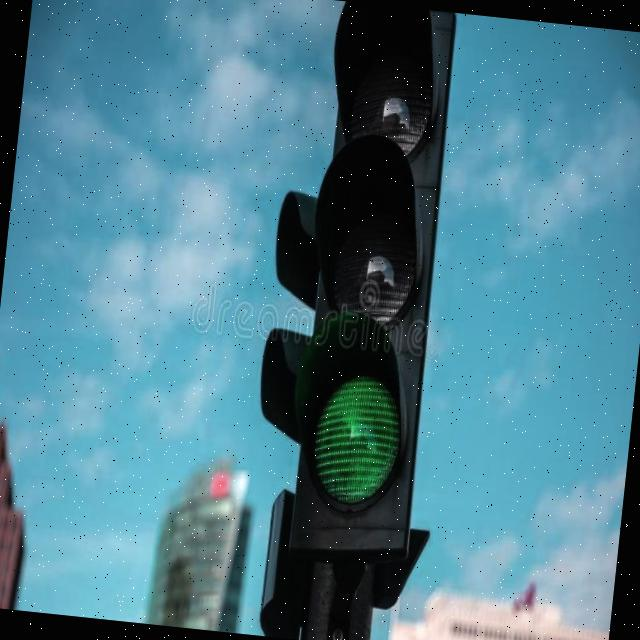Zielone swiatlo: (275, 1, 461, 559)
